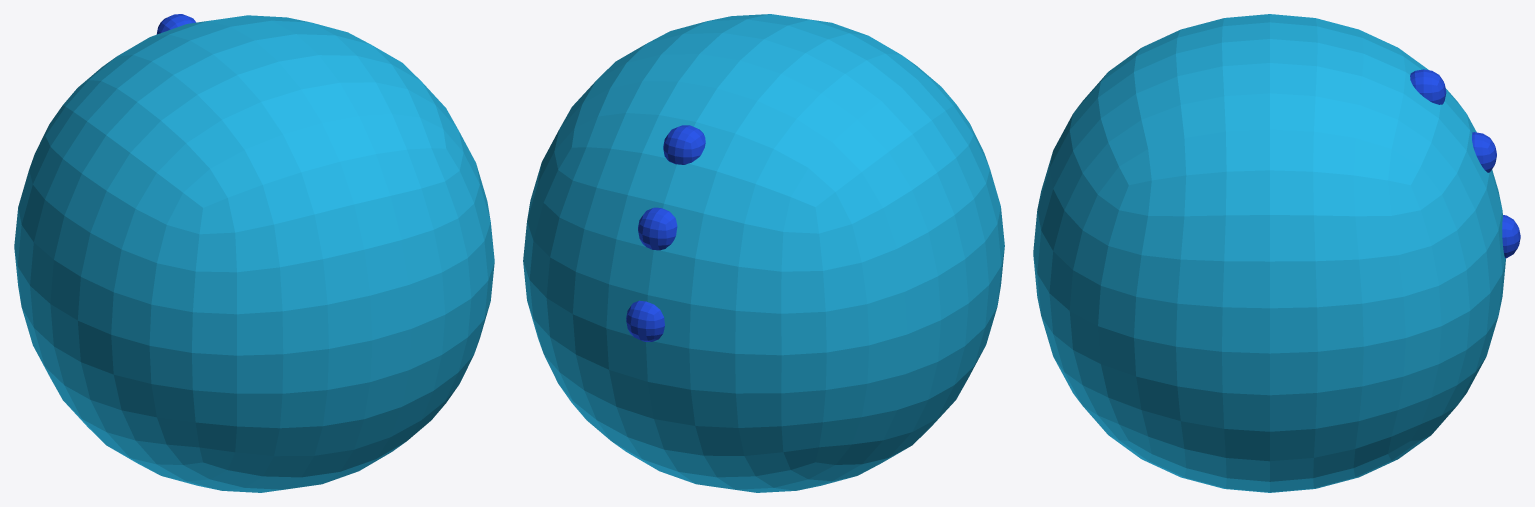
Rendered from esfera-CuerpoPlayer.glb.
The picture shows the model from 3 angles, left to right: view 1: azimuth 30°, elevation 25°; view 2: azimuth 150°, elevation 25°; view 3: azimuth 270°, elevation 25°; orthographic projection.
Parts seen in each view (by area): view 1: Cube.003; view 2: Cube.003; view 3: Cube.003.
Boxes of the visible parts, x1,y1,x2,y2 form: Cube.003: (14, 14, 494, 492); Cube.003: (523, 14, 1004, 492); Cube.003: (1033, 14, 1520, 492).
Size of the model in its own units: 1.68 by 1.68 by 1.73.
